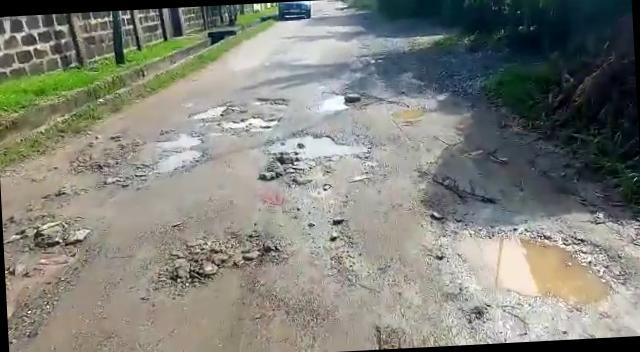pothole: (449, 219, 620, 314), (156, 227, 288, 286), (269, 126, 368, 156), (152, 149, 208, 175), (218, 113, 280, 132), (147, 129, 202, 148), (314, 92, 361, 113), (388, 103, 432, 122), (190, 102, 230, 120)
